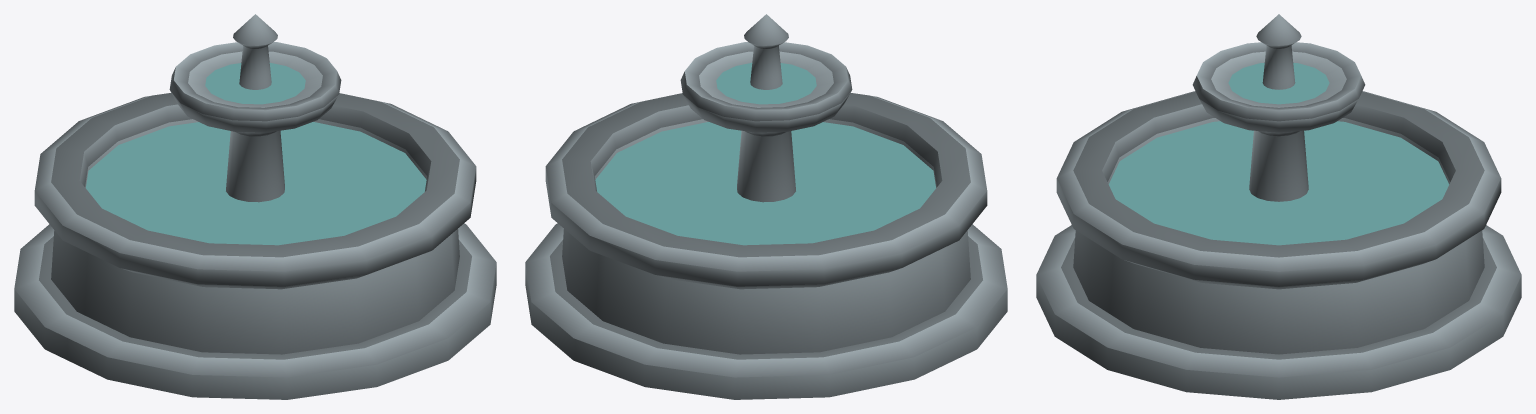
Rendered from fountain.glb.
The picture shows the model from 3 angles, left to right: view 1: azimuth 30°, elevation 25°; view 2: azimuth 150°, elevation 25°; view 3: azimuth 270°, elevation 25°; orthographic projection.
Visible parts, largest first — view 1: fountain; view 2: fountain; view 3: fountain.
Boxes of the visible parts, x1,y1,x2,y2 form: fountain: (14,14,496,399); fountain: (525,14,1007,399); fountain: (1036,14,1521,399).
Size of the model in its own units: 2.36 by 1.52 by 2.36.
Materials: 2 (1 with a texture image).
